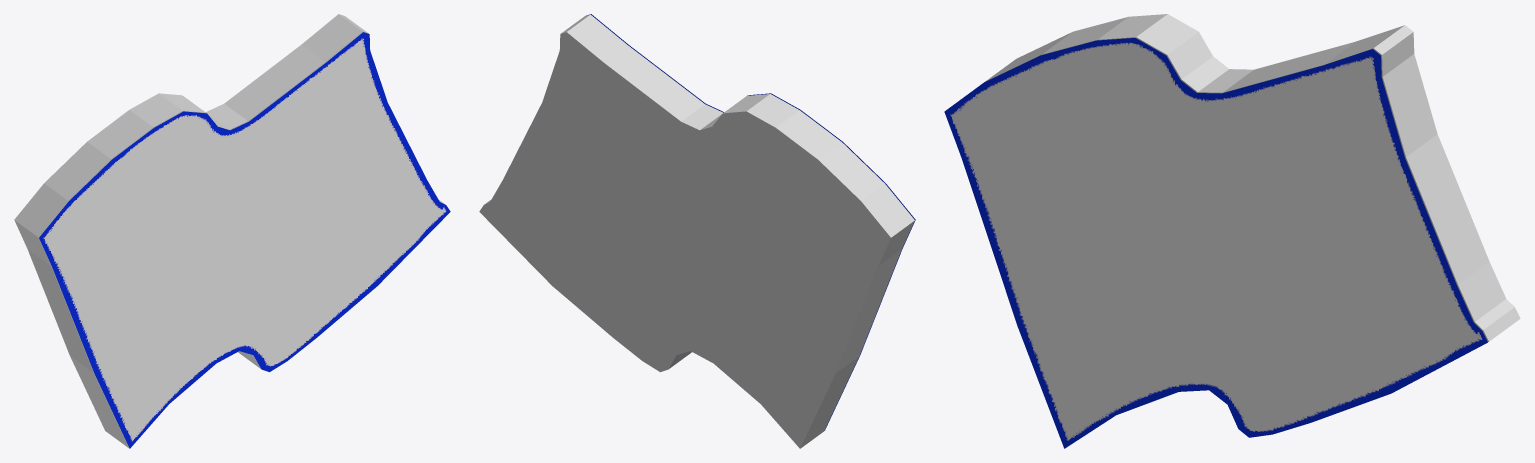
File: 11_In1_Pop-Up_book.fbx
3 renders of one model, left to right at view 1: azimuth 30°, elevation 25°; view 2: azimuth 150°, elevation 25°; view 3: azimuth 330°, elevation 25°, orthographic. The views are drawn at different scales.
Parts seen in each view (by area): view 1: In_1_0, In_1_1; view 2: In_1_1, In_1_0; view 3: In_1_0, In_1_1.
Boxes of the visible parts, bbox=[...] form: In_1_0: bbox=[39, 32, 450, 448]; In_1_1: bbox=[14, 14, 445, 447]; In_1_1: bbox=[479, 14, 914, 448]; In_1_0: bbox=[586, 14, 915, 430]; In_1_0: bbox=[944, 38, 1487, 448]; In_1_1: bbox=[985, 14, 1520, 341].
Bounding box in the file's own units: 4.96 × 4.14 × 0.515.
Materials: 2 (1 with a texture image).
